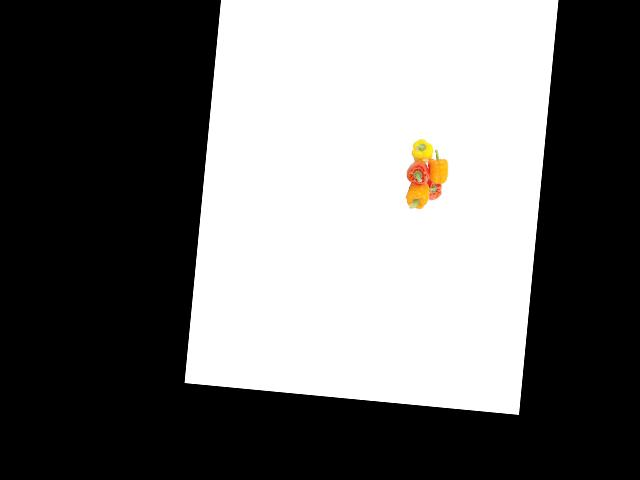bell_pepper: (402, 179, 433, 216)
